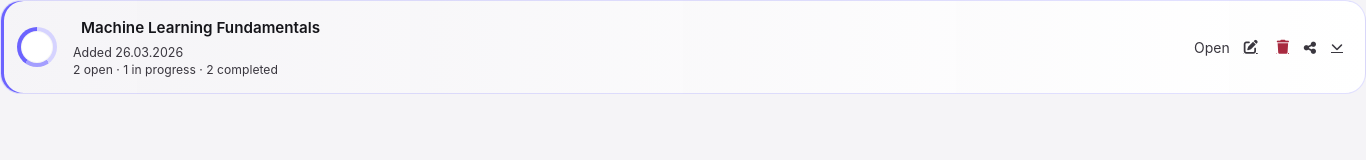
CourseCard › expands when the toggle button is clicked
Click the button named "toggle course": (1337, 47) [1325, 35, 1349, 59]
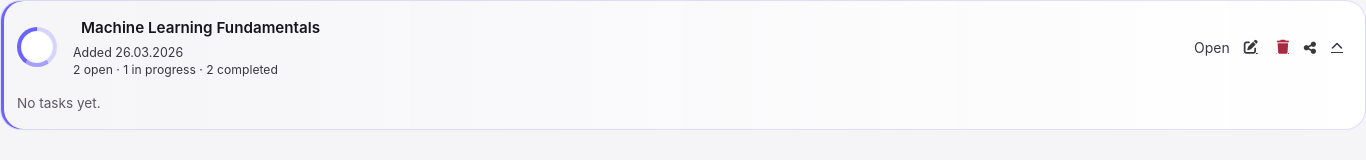
Expected: the text "No tasks yet." is shown, [17, 95, 101, 111]
